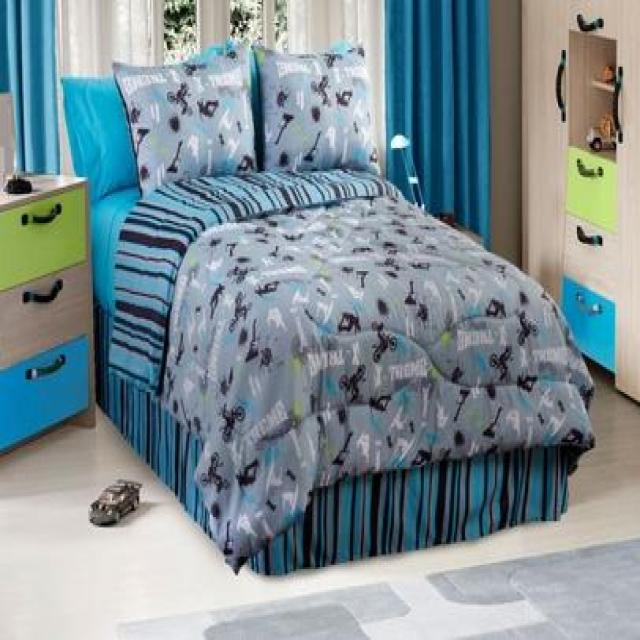bed: (57, 36, 594, 576)
